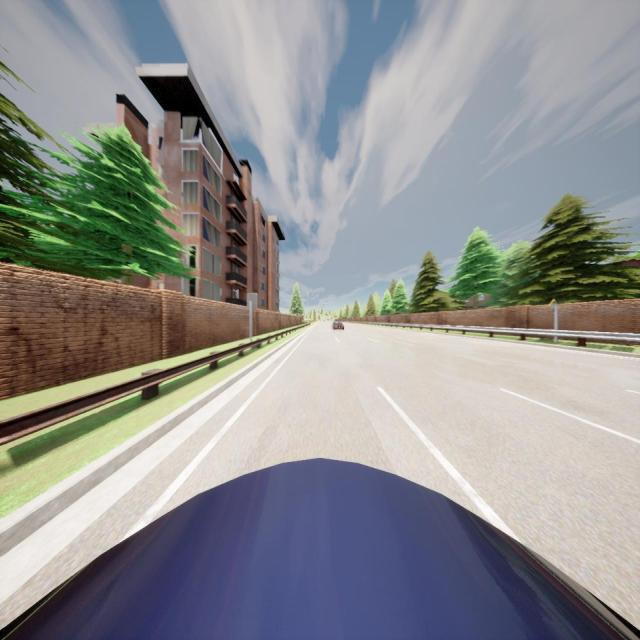Traffic_Signs: (246, 293, 258, 310), (548, 299, 559, 311)
Vehicle: (0, 456, 640, 640), (332, 319, 344, 330)
